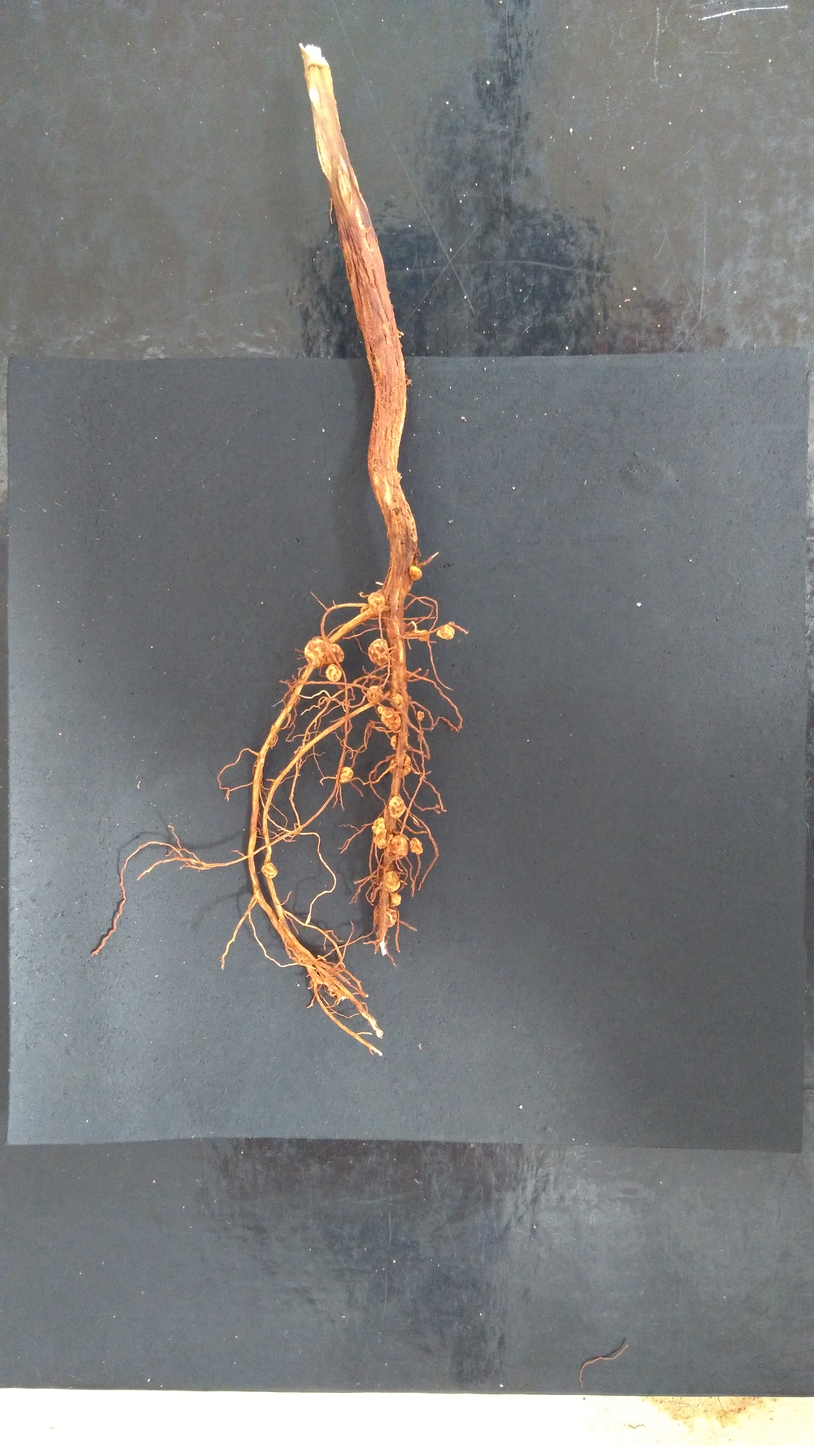nodule: (302, 637, 328, 668), (367, 637, 390, 667), (373, 902, 399, 928), (389, 752, 414, 777), (388, 833, 409, 862), (379, 706, 401, 732), (387, 795, 407, 819), (325, 642, 345, 665), (383, 869, 401, 894), (367, 591, 385, 614), (365, 685, 384, 704), (325, 663, 343, 682), (436, 624, 456, 641), (372, 829, 388, 850), (387, 691, 405, 709), (339, 766, 354, 786), (261, 862, 278, 879), (408, 837, 423, 855), (371, 817, 386, 835), (375, 705, 394, 719), (411, 628, 430, 642), (388, 891, 403, 908), (409, 564, 423, 581), (390, 733, 398, 750), (415, 710, 426, 722)
